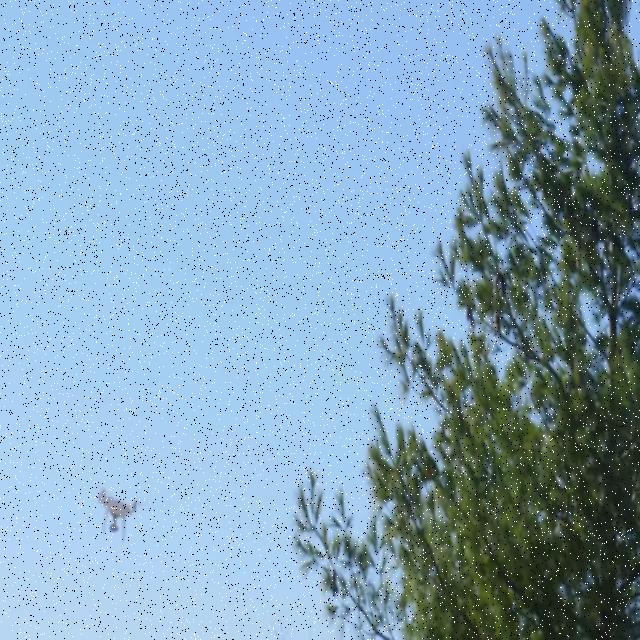UAV: (96, 482, 140, 546)
